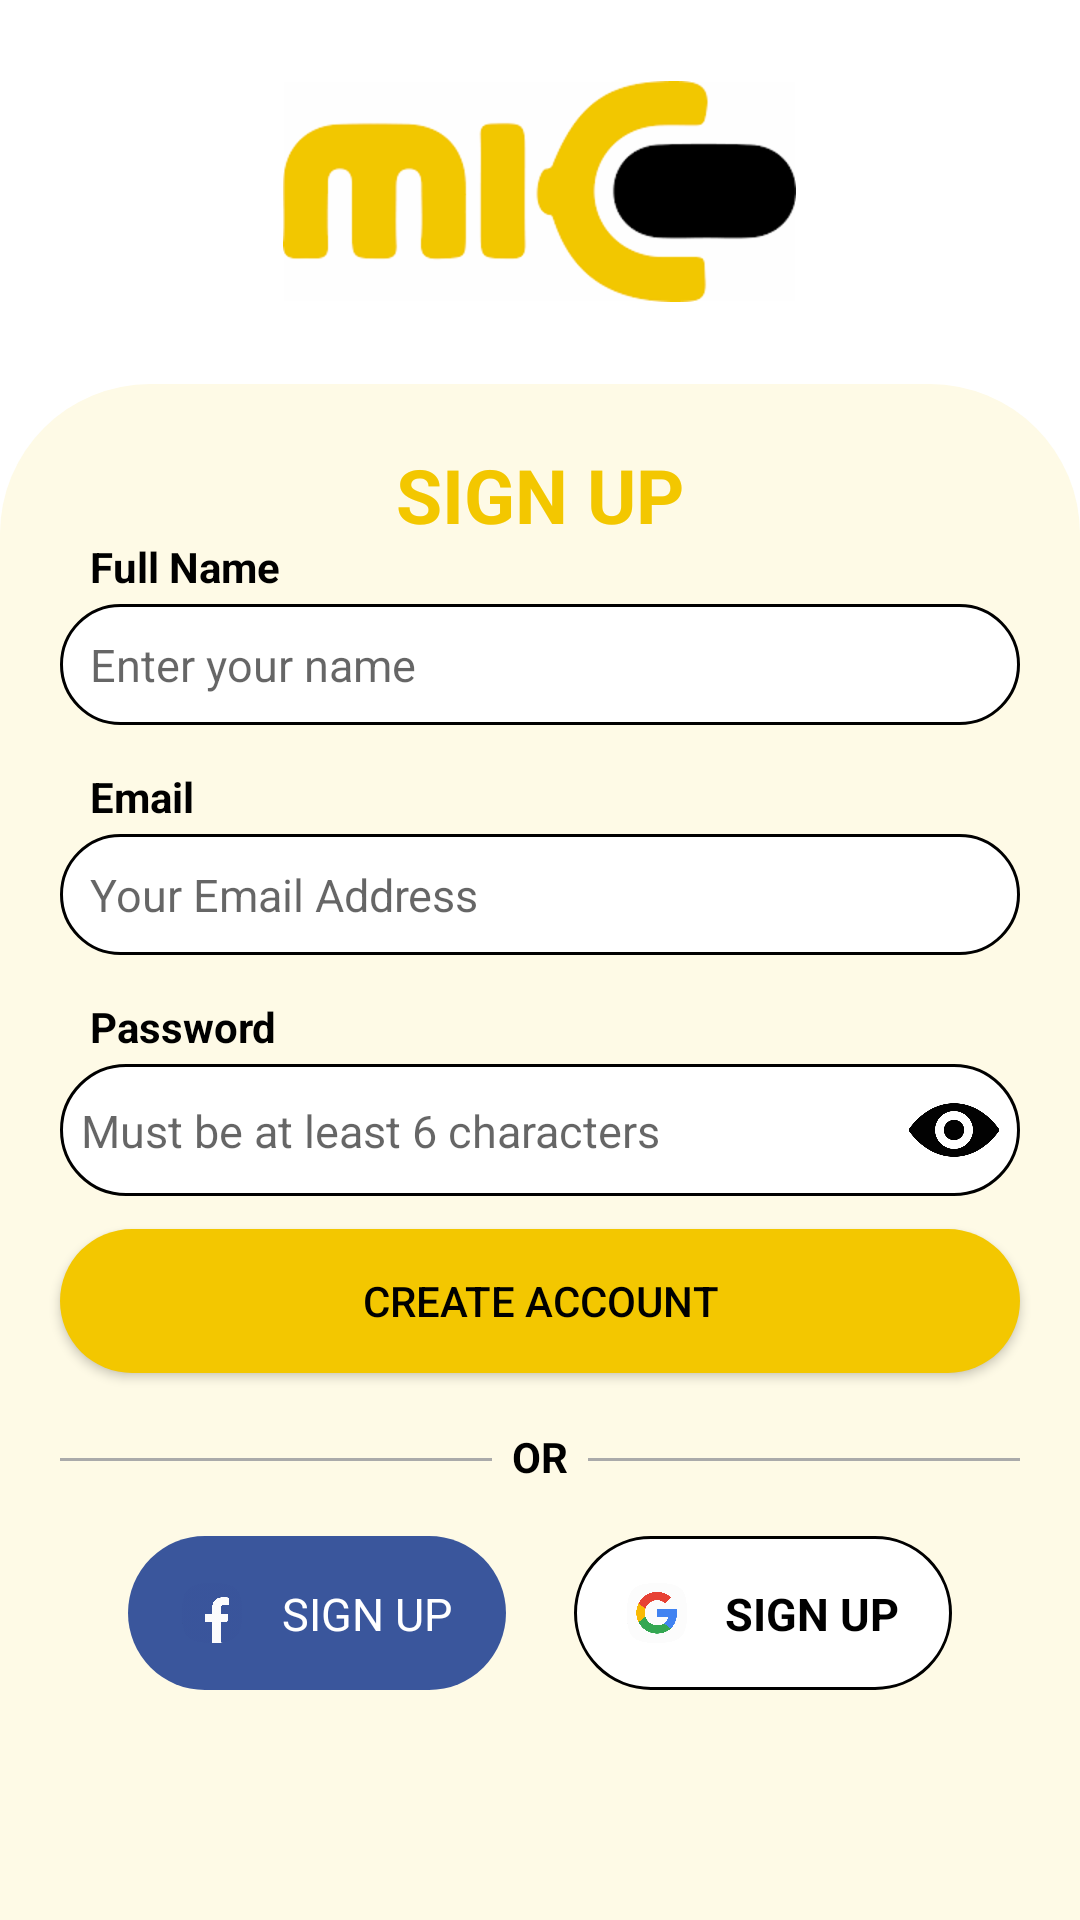

Icon click points for this 1080 x 1920 phone screenshot, format point (x, y):
password toggle show: point (954, 1130)
